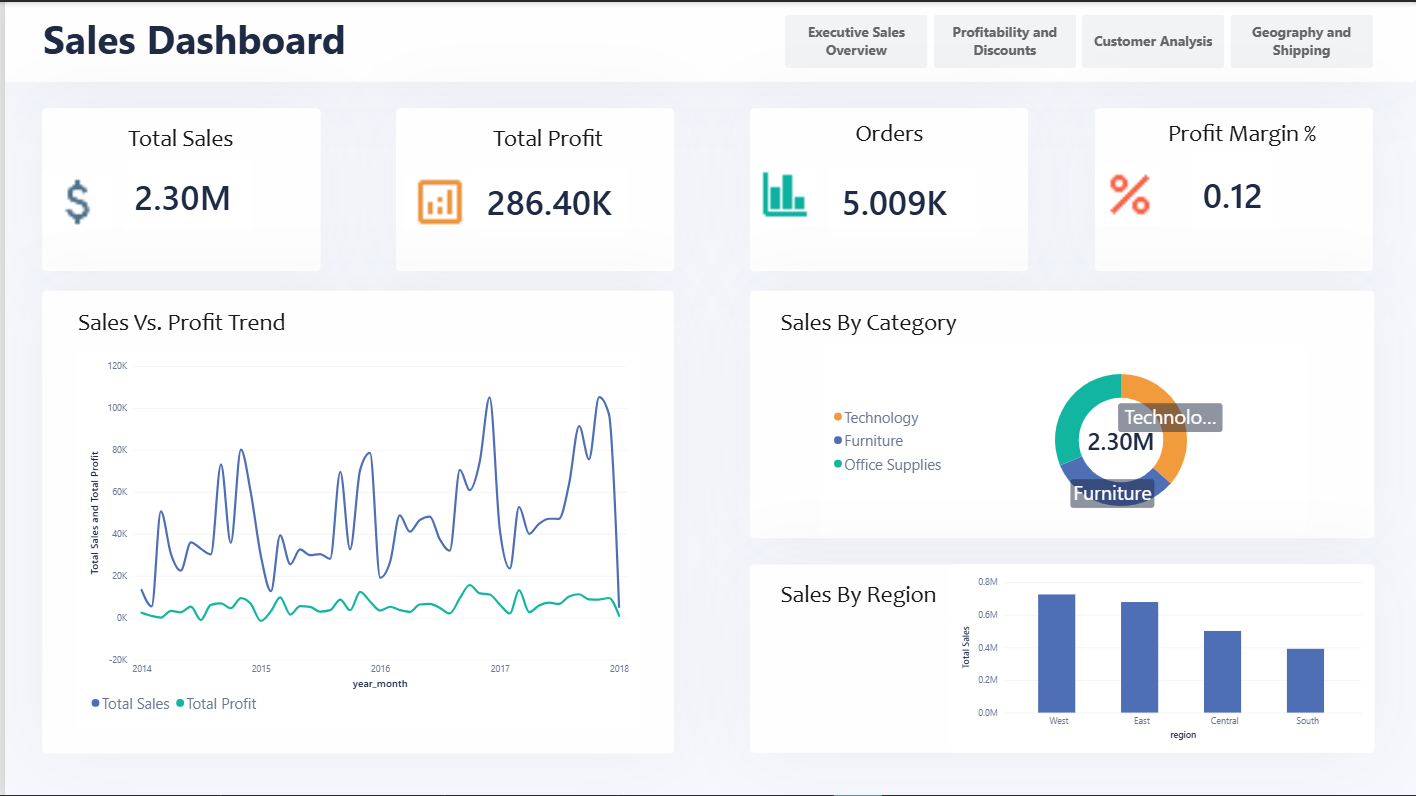

Layout of this report page (visuals, bound fields, positions):
{"tool":"powerbi","page":{"name":"Executive Sales Overview","canvas":[1920,1080],"ordinal":0},"visuals":[{"type":"shape","box":[0,0,1920.8,108.9],"z":0},{"type":"textbox","box":[51,11.9,445.7,85.1],"z":1000},{"type":"pageNavigator","box":[1062.2,17.4,800.6,73.3],"z":2000},{"type":"shape","box":[51,144.6,378.5,221.5],"z":3000},{"type":"shape","box":[532,145.2,378.5,221.5],"z":4000},{"type":"shape","box":[1013.4,145.2,378.5,221.5],"z":5000},{"type":"shape","box":[1484.3,145.2,378.5,221.5],"z":6000},{"type":"textbox","box":[167.4,165.7,161.6,56.1],"z":7000},{"type":"textbox","box":[662.8,165.7,161.6,56.1],"z":8000},{"type":"image","box":[50.6,232,95.3,81.7],"z":9000},{"type":"image","box":[544.2,232,95.3,81.7],"z":10000},{"type":"image","box":[1014,221.2,95.3,81.7],"z":11000},{"type":"image","box":[1483.6,221.2,95.3,81.7],"z":12000},{"type":"textbox","box":[1580.2,158.7,205.8,47.1],"z":13000},{"type":"textbox","box":[1123.3,158.7,161.6,56.1],"z":14000},{"type":"cardVisual","fields":{"Data":["Sum(fact_sales.sales)"]},"box":[160.5,214.5,174.4,99.4],"z":15000},{"type":"cardVisual","fields":{"Data":["Sum(fact_sales.profit)"]},"box":[640.1,221.5,205.8,99.4],"z":16000},{"type":"cardVisual","fields":{"Data":["Count(fact_sales.order_id)"]},"box":[1123.3,221.5,205.8,99.4],"z":17000},{"type":"cardVisual","fields":{"Data":["fact_sales.Profit Margin %"]},"box":[1615.1,211,118.6,99.4],"z":18000},{"type":"shape","box":[51,393,859.2,629.5],"z":19000},{"type":"textbox","box":[98.7,415.1,458.7,55.8],"z":20000},{"type":"lineChart","fields":{"Category":["dim_date.year_month"],"Y":["fact_sales.Total Sales","fact_sales.Total Profit"]},"box":[98.7,471.3,767.3,517.2],"z":21000},{"type":"shape","box":[1013.4,392.4,849.4,336.6],"z":22000},{"type":"textbox","box":[1055.2,415.1,273.8,55.8],"z":23000},{"type":"donutChart","fields":{"Category":["dim_product.category"],"Y":["fact_sales.Total Sales"]},"box":[1109.3,464,661,265.1],"z":24000},{"type":"shape","box":[1013.4,765.7,849.4,256.4],"z":25000},{"type":"textbox","box":[1055.2,786.6,273.8,55.8],"z":26000},{"type":"clusteredColumnChart","fields":{"Category":["dim_location.region"],"Y":["fact_sales.Total Sales"]},"box":[1285.5,765.7,577.3,256.4],"z":27000}]}

Visuals, with their boxes in screenshot pixels (x1, y1, x2, y2), scaled from the page's 1920x1080 canvas onto the 1416x796 screenshot:
shape: x1=0 y1=0 x2=1415 y2=80
textbox: x1=38 y1=9 x2=366 y2=71
pageNavigator: x1=783 y1=13 x2=1374 y2=67
shape: x1=38 y1=107 x2=317 y2=270
shape: x1=392 y1=107 x2=671 y2=270
shape: x1=747 y1=107 x2=1027 y2=270
shape: x1=1095 y1=107 x2=1374 y2=270
textbox: x1=123 y1=122 x2=243 y2=163
textbox: x1=489 y1=122 x2=608 y2=163
image: x1=37 y1=171 x2=108 y2=231
image: x1=401 y1=171 x2=472 y2=231
image: x1=748 y1=163 x2=818 y2=223
image: x1=1094 y1=163 x2=1164 y2=223
textbox: x1=1165 y1=117 x2=1317 y2=152
textbox: x1=828 y1=117 x2=948 y2=158
cardVisual - Sum(fact_sales.sales): x1=118 y1=158 x2=247 y2=231
cardVisual - Sum(fact_sales.profit): x1=472 y1=163 x2=624 y2=237
cardVisual - Count(fact_sales.order_id): x1=828 y1=163 x2=980 y2=237
cardVisual - fact_sales.Profit Margin %: x1=1191 y1=156 x2=1279 y2=229
shape: x1=38 y1=290 x2=671 y2=754
textbox: x1=73 y1=306 x2=411 y2=347
lineChart - dim_date.year_month x fact_sales.Total Sales: x1=73 y1=347 x2=639 y2=729
shape: x1=747 y1=289 x2=1374 y2=537
textbox: x1=778 y1=306 x2=980 y2=347
donutChart - dim_product.category x fact_sales.Total Sales: x1=818 y1=342 x2=1306 y2=537
shape: x1=747 y1=564 x2=1374 y2=753
textbox: x1=778 y1=580 x2=980 y2=621
clusteredColumnChart - dim_location.region x fact_sales.Total Sales: x1=948 y1=564 x2=1374 y2=753
